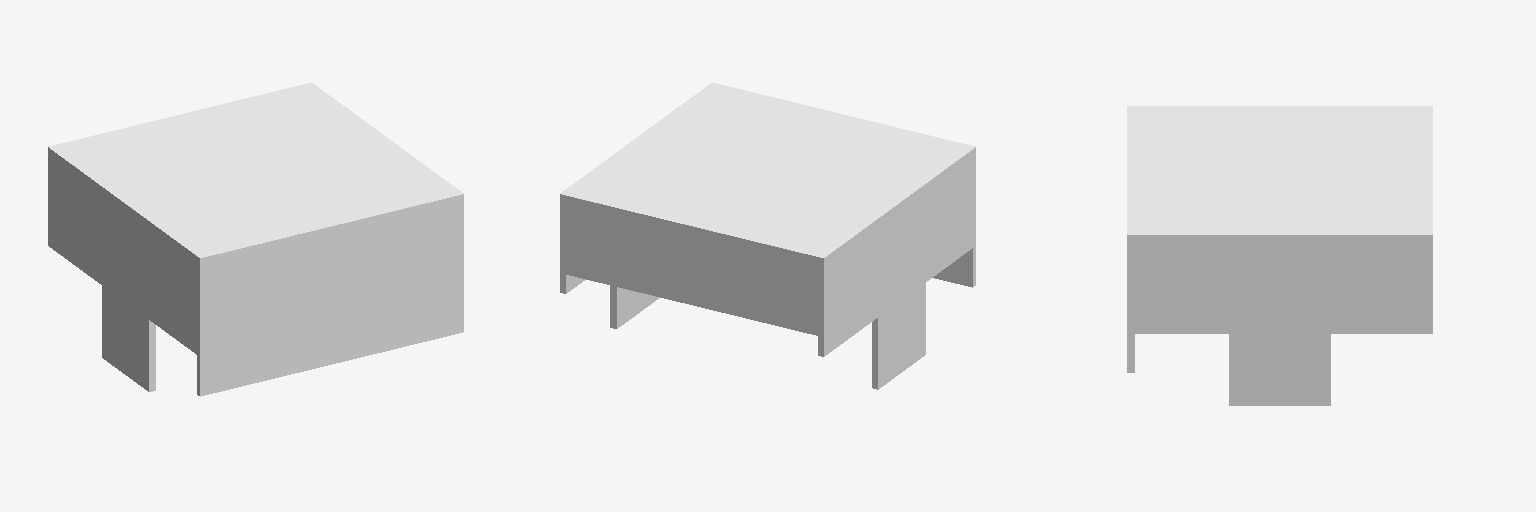
The model's file is BossArmorPiece2.obj.
The picture shows the model from 3 angles: view 1: azimuth 30°, elevation 25°; view 2: azimuth 150°, elevation 25°; view 3: azimuth 270°, elevation 25°; orthographic projection.
Size of the model in its own units: 42 by 26 by 42.